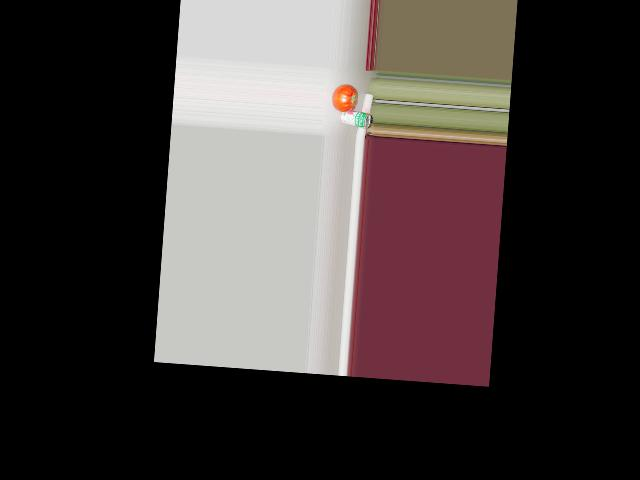tomato: (331, 83, 357, 112)
